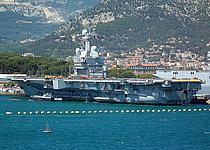MIL_Ship: (5, 27, 202, 107)
